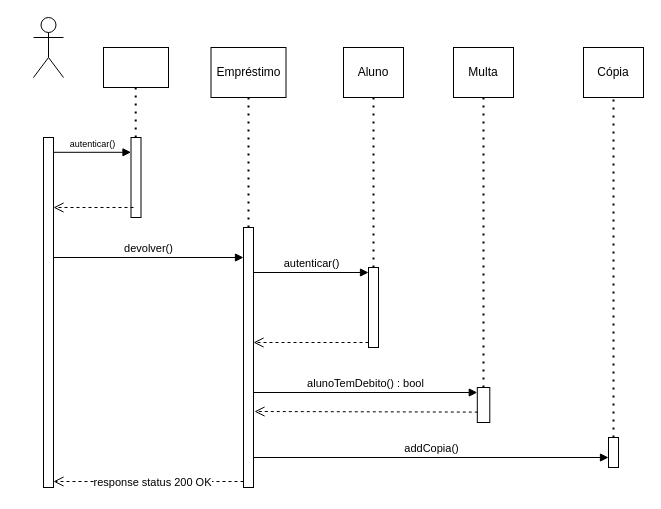
This 661x509 diagram has some shape labels left out. The shapes that lost their labels are listed below. From the top down, each one's centre as x and y in pixels, then its label:
At [48,47]: "Funcionário".
At [135,67]: "Usuário".
